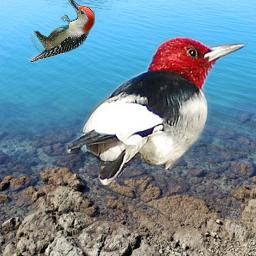Woodpecker: (66, 36, 250, 188), (28, 0, 95, 62)
